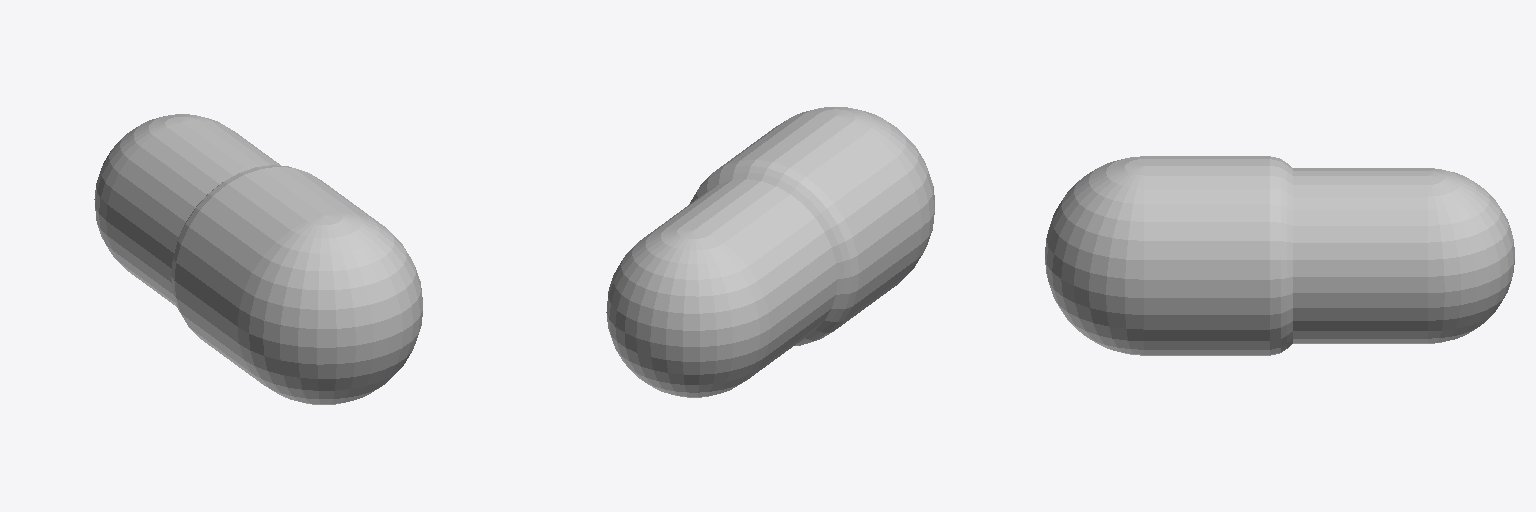
File: Pill.obj
3 views of the same model, side by side, from view 1: azimuth 30°, elevation 25°; view 2: azimuth 150°, elevation 25°; view 3: azimuth 270°, elevation 25° (orthographic).
Parts seen in each view (by area): view 1: Sphere_Sphere.001; view 2: Sphere_Sphere.001; view 3: Sphere_Sphere.001.
Boxes of the visible parts, x1=… form: Sphere_Sphere.001: x1=94, y1=114, x2=422, y2=404; Sphere_Sphere.001: x1=606, y1=107, x2=934, y2=397; Sphere_Sphere.001: x1=1045, y1=156, x2=1514, y2=355.
Bounding box in the file's own units: 1.74 × 1.74 × 4.11.